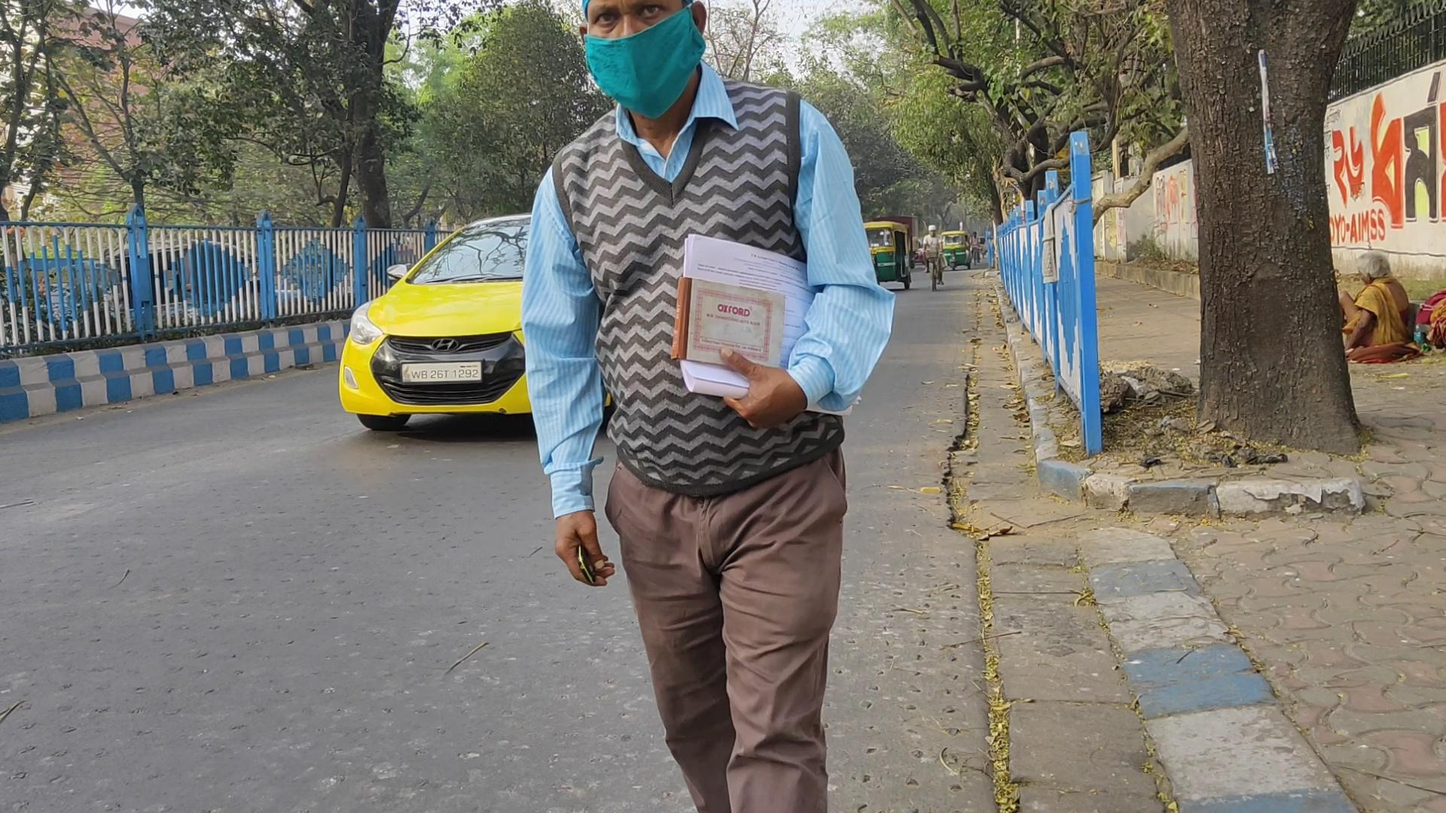Auto: (862, 220, 913, 293), (939, 230, 971, 273)
bike: (921, 224, 947, 291), (969, 231, 981, 268)
car: (338, 211, 616, 437)
